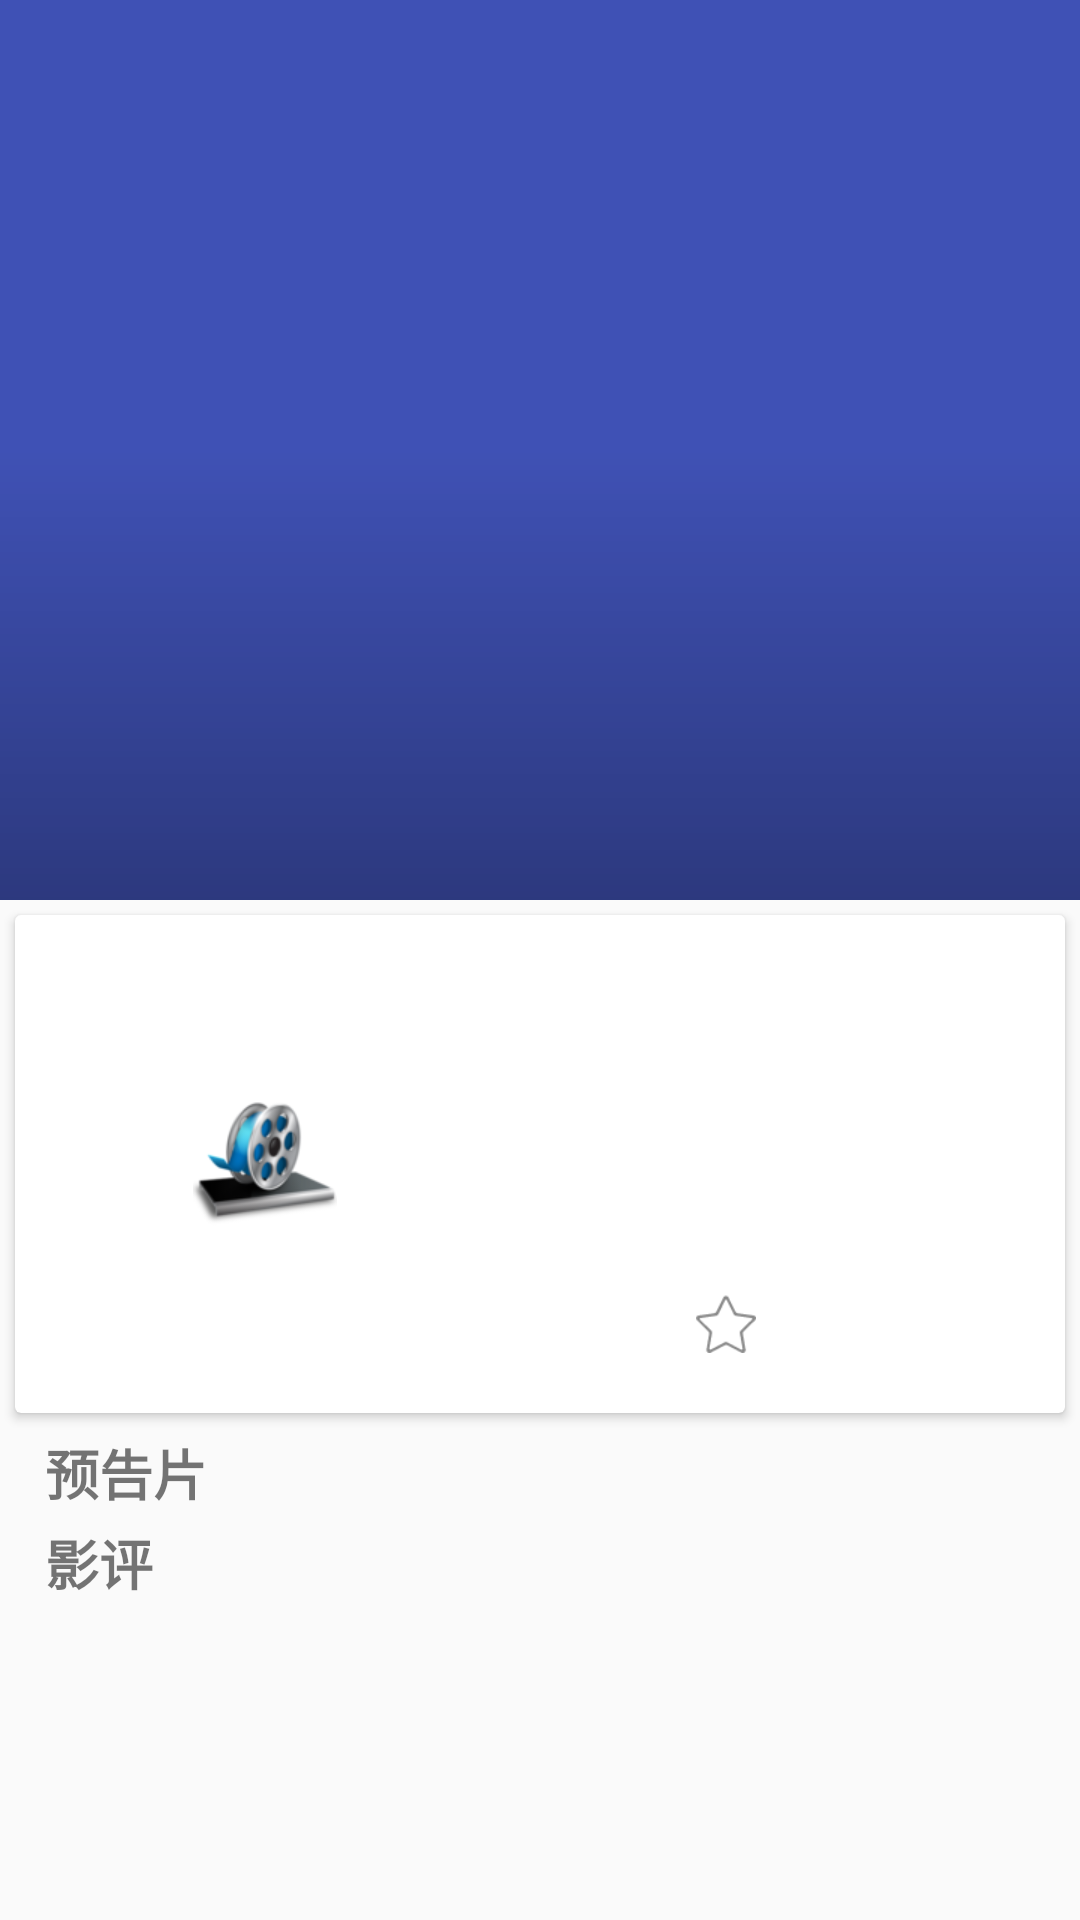

Screen size 1080 x 1920. Icon name, then its box in pixels as (x1, y1, x2, y2):
favorite: (696, 1295, 756, 1353)
